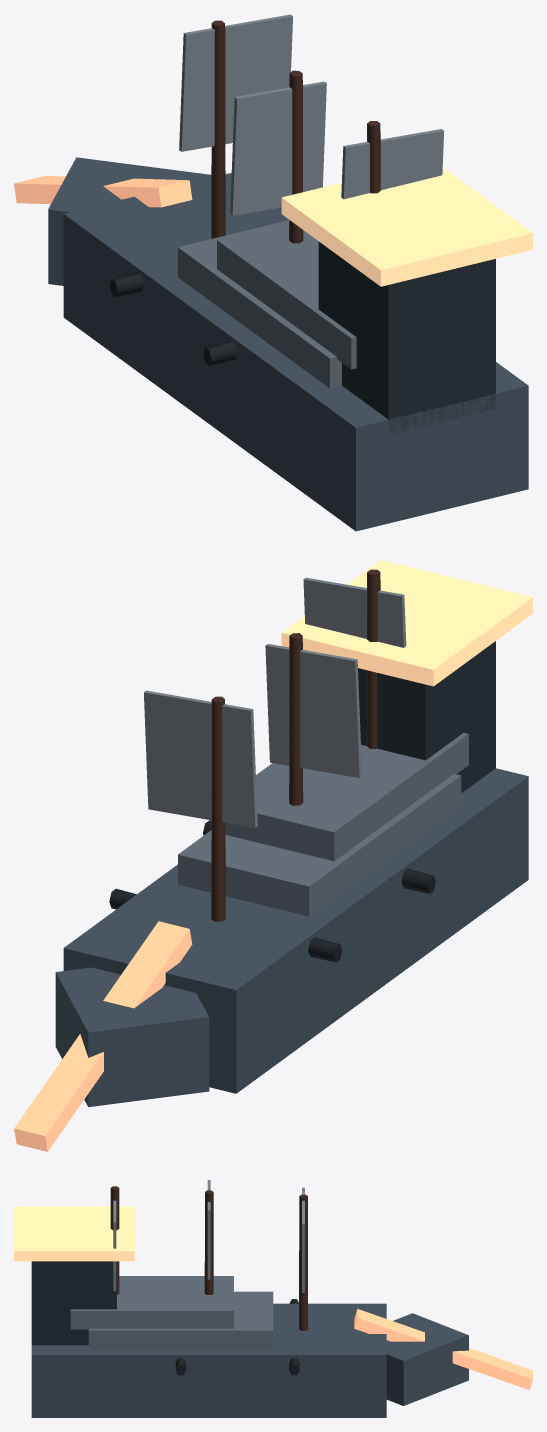
Rendered from ship_main_57_lod1.glb.
3 views of the same model, one above another, from view 1: azimuth 30°, elevation 25°; view 2: azimuth 150°, elevation 25°; view 3: azimuth 270°, elevation 25° (orthographic). The views are drawn at different scales.
Parts seen in each view (by area): view 1: Hull, SternTower, TowerCap, Sail_1, Sail_0, Deck_1, Deck_0, Bow, Sail_2, ProwIdentity, Mast_0, Mast_1 (+3 smaller); view 2: Hull, Bow, Deck_1, TowerCap, Deck_0, Sail_0, SternTower, Sail_1, ProwIdentity, Sail_2, Mast_0, Mast_1 (+1 smaller); view 3: Hull, Deck_1, TowerCap, SternTower, Deck_0, Bow, ProwIdentity, Mast_0, Mast_1, Mast_2, Sail_1, Sail_2 (+1 smaller).
Boxes of the visible parts, left/top/right/bottom form: Hull: left=63, top=173, right=528, bottom=531; SternTower: left=318, top=241, right=495, bottom=433; TowerCap: left=281, top=167, right=532, bottom=286; Sail_1: left=230, top=81, right=326, bottom=215; Sail_0: left=179, top=14, right=292, bottom=151; Deck_1: left=217, top=222, right=356, bottom=369; Deck_0: left=178, top=220, right=341, bottom=388; Bow: left=48, top=157, right=211, bottom=285; Sail_2: left=341, top=129, right=443, bottom=199; ProwIdentity: left=14, top=176, right=192, bottom=207; Mast_0: left=211, top=20, right=225, bottom=238; Mast_1: left=289, top=70, right=303, bottom=243; Hull: left=63, top=768, right=528, bottom=1093; Bow: left=55, top=967, right=209, bottom=1107; Deck_1: left=225, top=733, right=468, bottom=861; TowerCap: left=281, top=560, right=532, bottom=686; Deck_0: left=178, top=773, right=461, bottom=916; Sail_0: left=144, top=690, right=257, bottom=827; SternTower: left=358, top=641, right=495, bottom=792; Sail_1: left=265, top=644, right=361, bottom=777; ProwIdentity: left=14, top=921, right=192, bottom=1151; Sail_2: left=303, top=577, right=406, bottom=647; Mast_0: left=211, top=696, right=225, bottom=921; Mast_1: left=289, top=633, right=303, bottom=805; Hull: left=31, top=1303, right=386, bottom=1417; Deck_1: left=70, top=1276, right=233, bottom=1329; TowerCap: left=14, top=1206, right=134, bottom=1261; SternTower: left=31, top=1261, right=116, bottom=1345; Deck_0: left=88, top=1291, right=273, bottom=1348; Bow: left=386, top=1313, right=468, bottom=1405; ProwIdentity: left=354, top=1309, right=532, bottom=1389; Mast_0: left=299, top=1194, right=308, bottom=1330; Mast_1: left=204, top=1190, right=213, bottom=1294; Mast_2: left=110, top=1186, right=119, bottom=1294; Sail_1: left=207, top=1180, right=210, bottom=1279; Sail_2: left=113, top=1200, right=116, bottom=1291.
Size of the model in its own units: 2.81 by 4.03 by 9.26.
